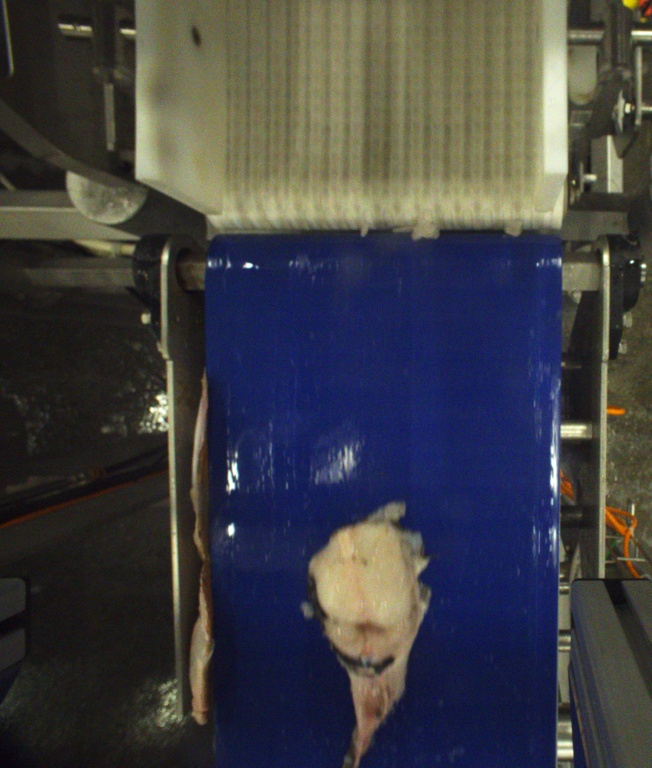ANF: (302, 503, 431, 768)
